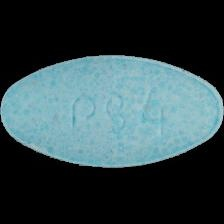54868-0089: (0, 0, 224, 224)
